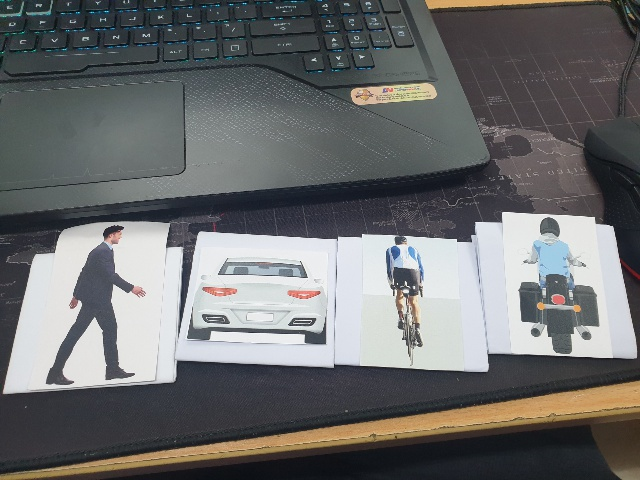Car: (192, 261, 330, 348)
Cyclist: (375, 236, 432, 367)
Motorcycle: (510, 216, 602, 354)
Person: (54, 225, 139, 385)
